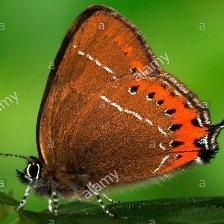butterfly: (17, 5, 224, 216)
